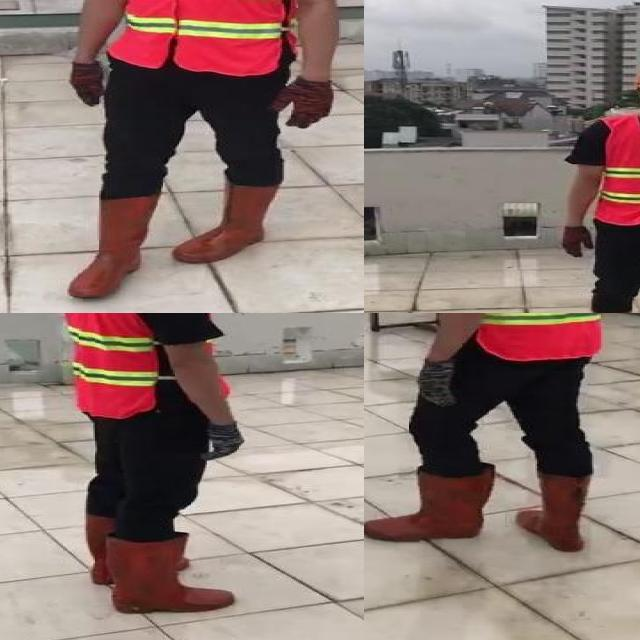boots: (106, 532, 239, 612), (70, 506, 202, 585), (66, 196, 160, 299), (366, 469, 496, 540), (174, 183, 280, 264), (516, 474, 594, 551)
hand_glove: (266, 79, 336, 130), (412, 361, 458, 409), (202, 423, 250, 462), (69, 63, 106, 107), (560, 224, 592, 259)
person: (44, 0, 345, 308), (48, 313, 249, 621), (364, 313, 611, 553), (542, 54, 640, 313)
vest: (59, 313, 228, 418), (106, 0, 294, 73), (471, 313, 606, 360), (595, 115, 640, 226)
